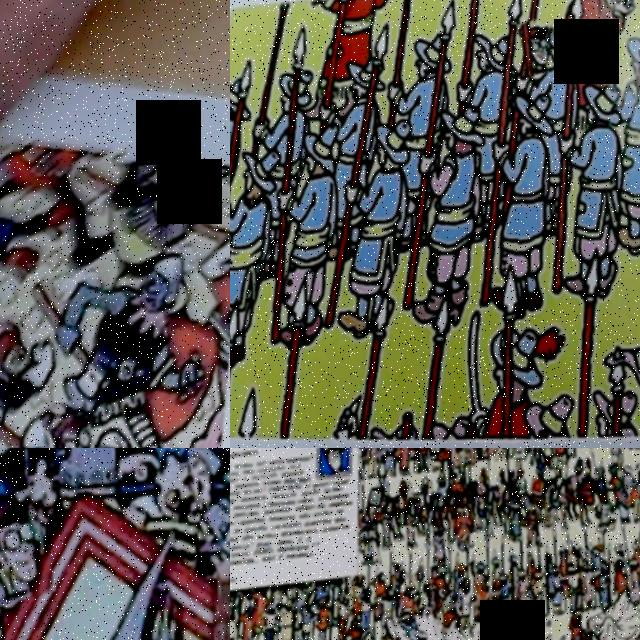waldo: (0, 491, 52, 613), (33, 399, 96, 448), (517, 20, 561, 83), (318, 448, 347, 482)
